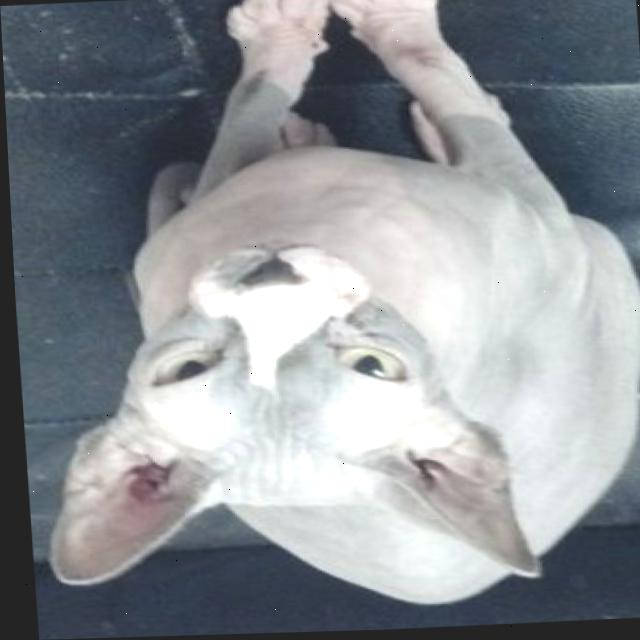Sphynx: (3, 0, 640, 631)
